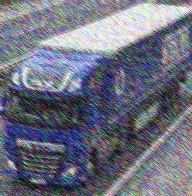truck: (2, 8, 188, 196)
